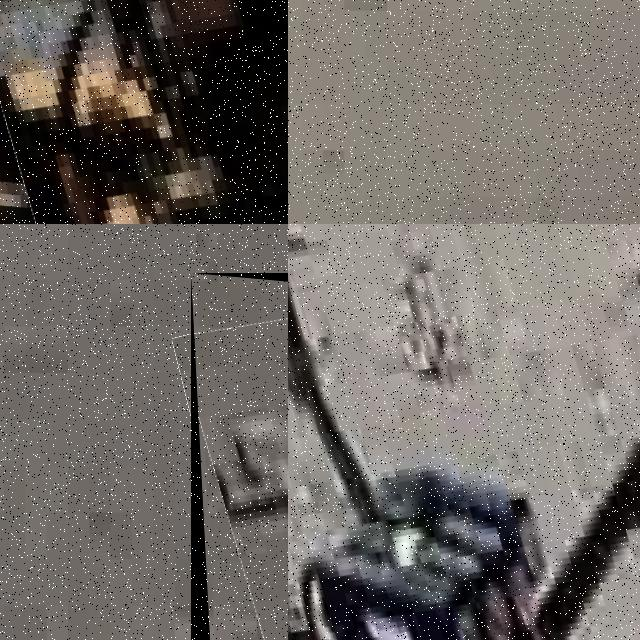0: (288, 224, 640, 640), (191, 273, 288, 640)
drone: (0, 0, 288, 224)
